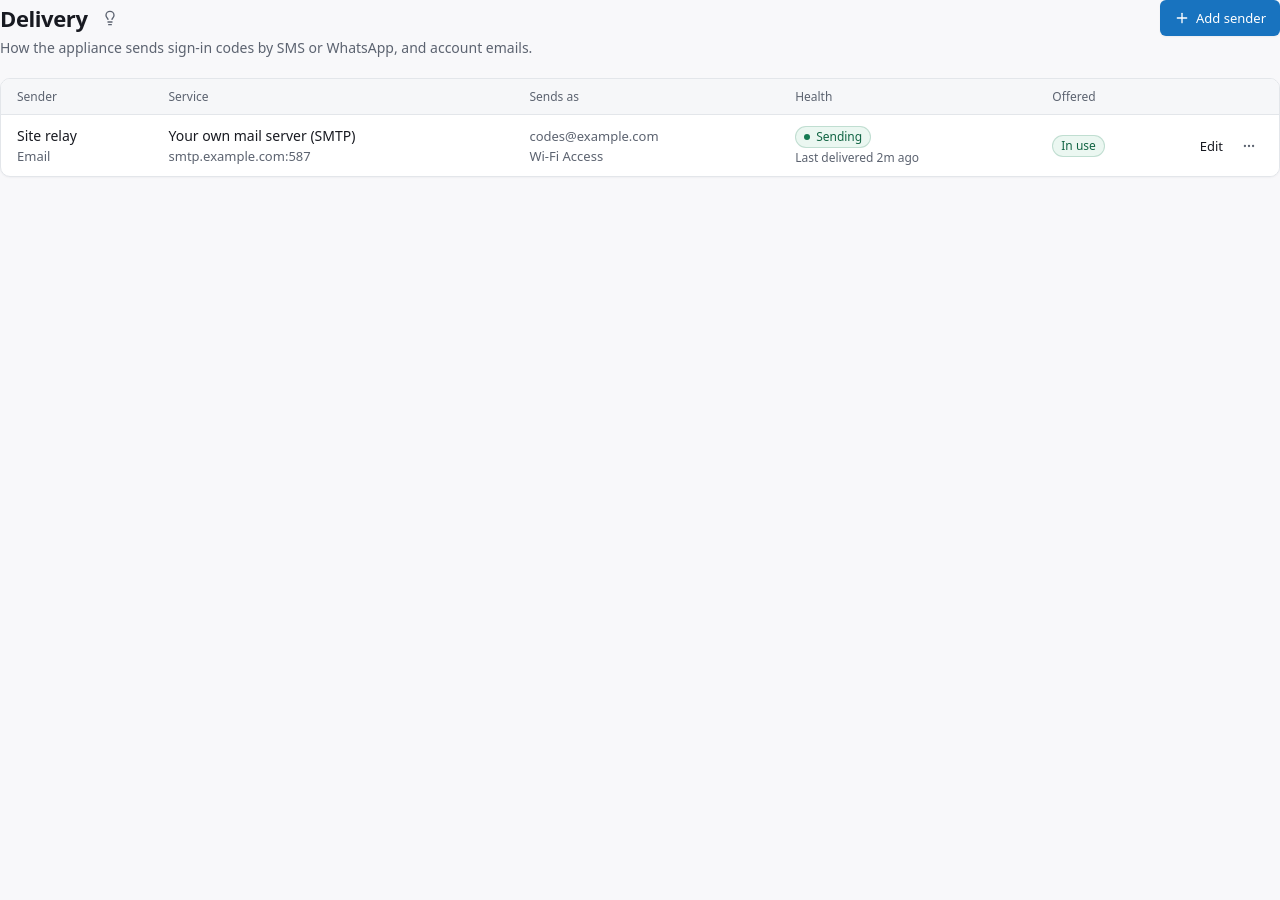
Test: Send a test message › reports an appliance that could not run the test at all
Expected: the text "Site relay" is shown, [17,126,77,144]
Press Enter in the button named "Actions for ", box [1235,132,1263,160]
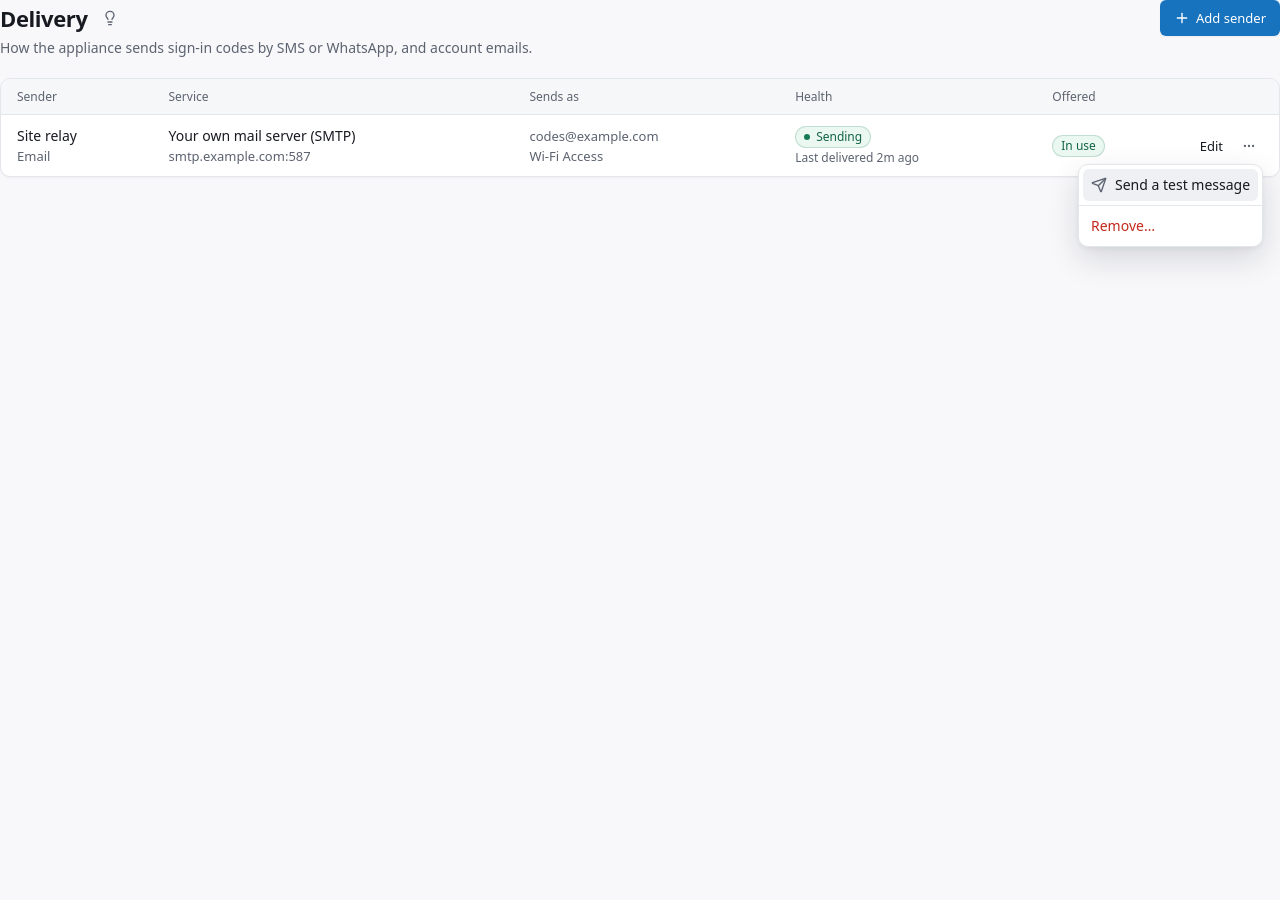
Click the menu item "Send a test message". click: click(1171, 185)
box: [1083,169,1258,201]
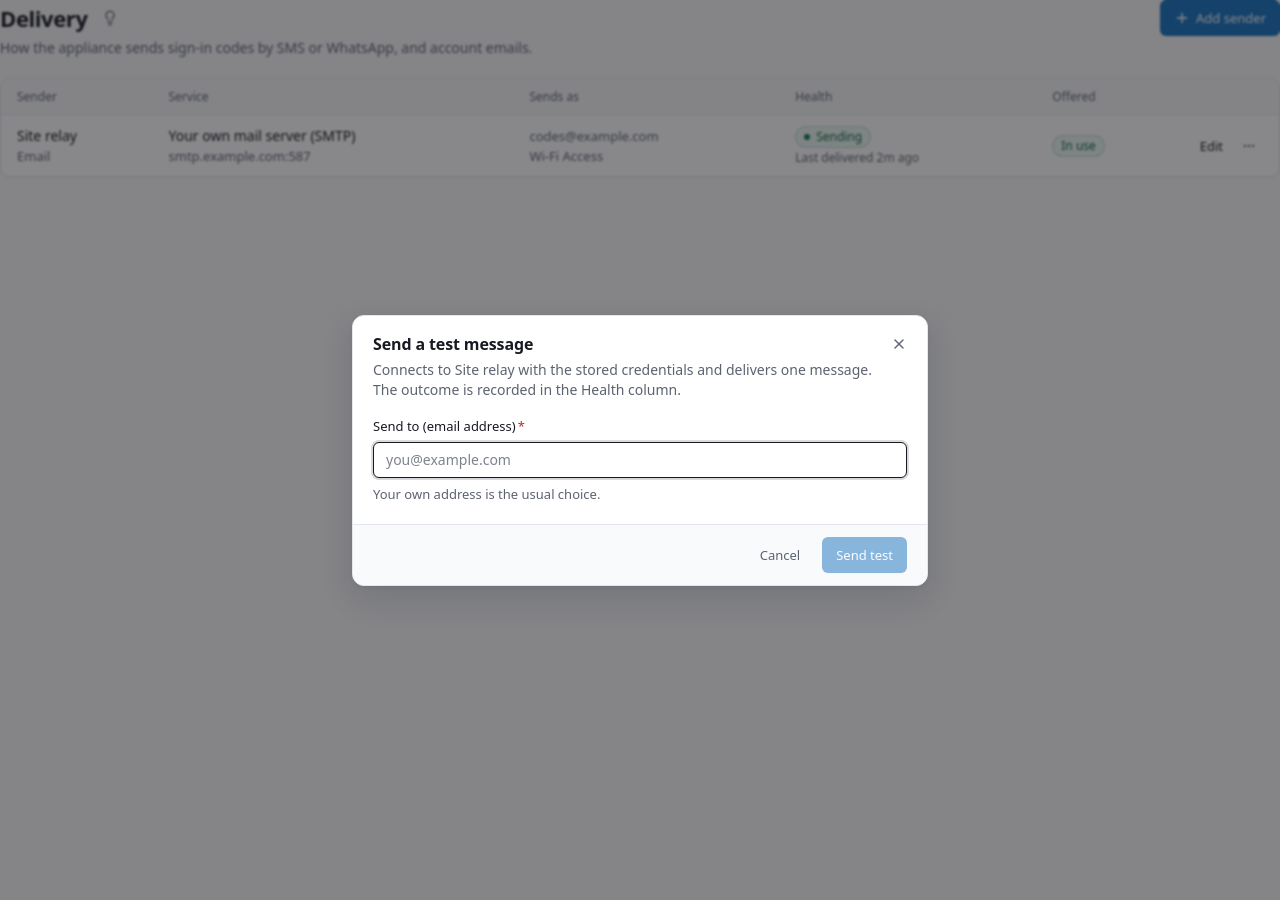
Type "me@example.com" into the field labelled "Send to (email address)*". click: (640, 460)
box: [373,442,907,478]
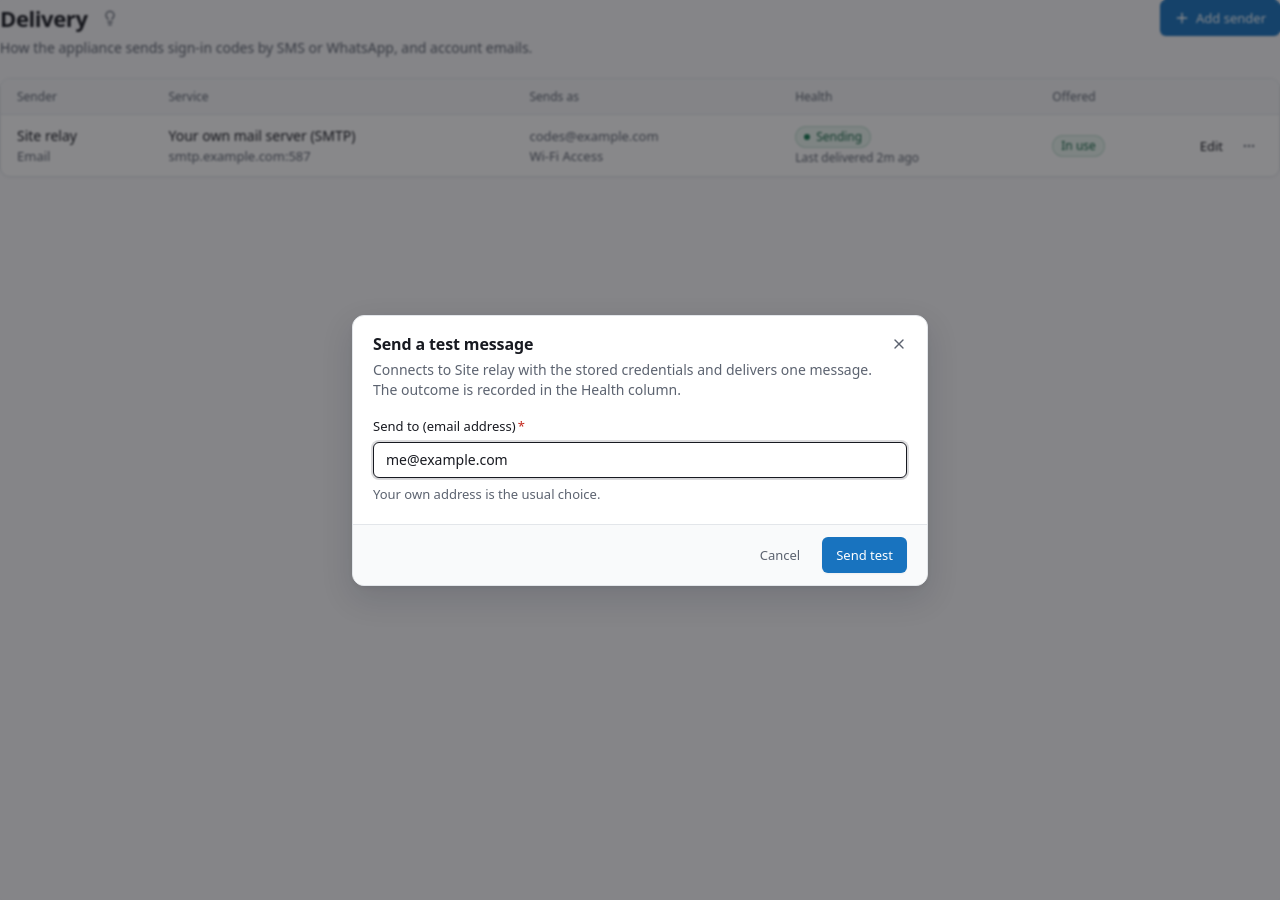
Click the button "Send test". click: click(865, 554)
box: [822,536,907,572]
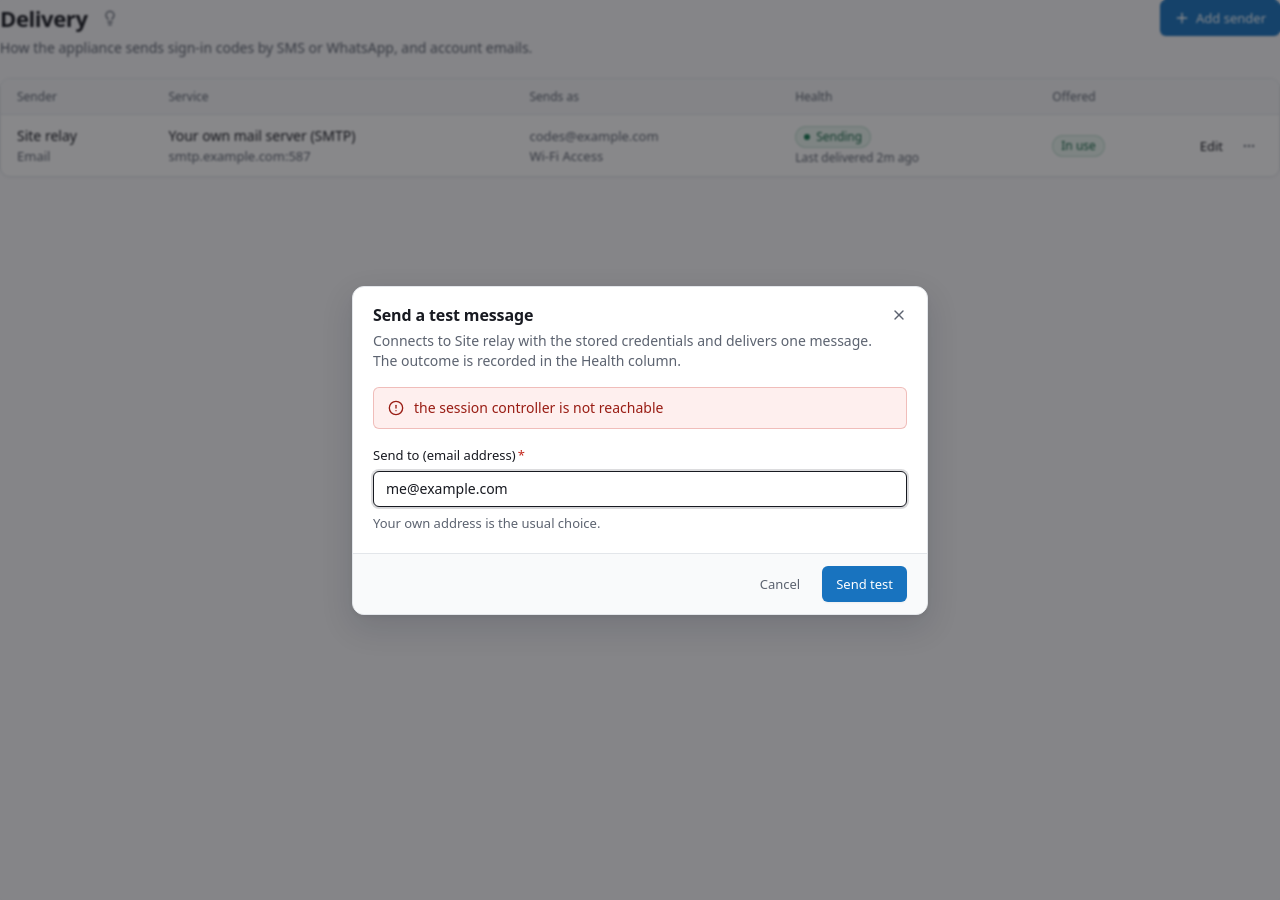
Expected: the text "the session controller is not reachable" is shown, [414,398,663,418]
